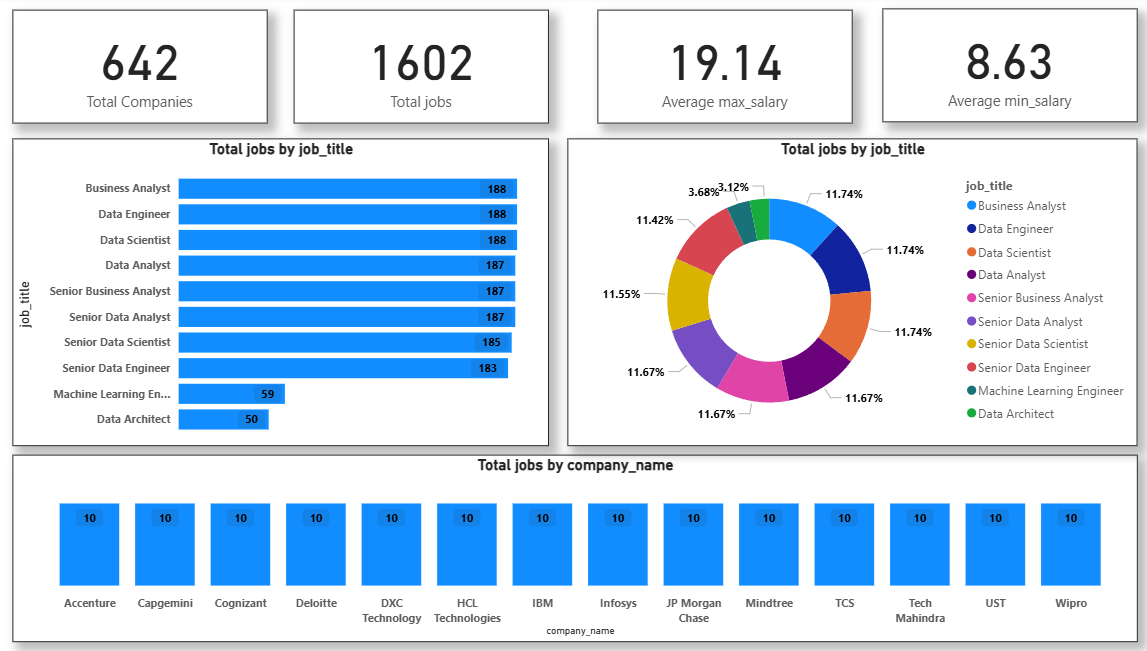

Layout of this report page (visuals, bound fields, positions):
{"tool":"powerbi","page":{"name":"Job Market Overview","canvas":[1280,720],"ordinal":0},"visuals":[{"type":"card","fields":{"Values":["Measure Table.Total Companies"]},"box":[30.2,15.1,279.9,124.9],"z":0},{"type":"card","fields":{"Values":["Measure Table.Total Companies"]},"box":[985.3,13.7,279.9,124.9],"z":1000},{"type":"card","fields":{"Values":["Measure Table.Total Companies"]},"box":[672.4,15.1,279.9,124.9],"z":2000},{"type":"card","fields":{"Values":["Measure Table.Total Companies"]},"box":[338.9,15.1,279.9,124.9],"z":3000},{"type":"clusteredBarChart","fields":{"Y":["Measure Table.Total jobs"],"Category":["Data.job_title"]},"box":[30.2,156.4,588.7,337.6],"z":4000},{"type":"clusteredColumnChart","fields":{"Y":["Measure Table.Total jobs"],"Category":["Data.company_name"]},"box":[30.2,503.6,1235,205.8],"z":5000},{"type":"donutChart","fields":{"Y":["Measure Table.Total jobs"],"Category":["Data.job_title"]},"box":[639.5,156.4,625.7,337.6],"z":6000}]}

Visuals, with their boxes in screenshot pixels (x1, y1, x2, y2), scaled from the page's 1280x720 canvas onto the 1147x651 screenshot:
card - Measure Table.Total Companies: (27, 14, 278, 127)
card - Measure Table.Total Companies: (883, 12, 1134, 125)
card - Measure Table.Total Companies: (603, 14, 853, 127)
card - Measure Table.Total Companies: (304, 14, 555, 127)
clusteredBarChart - Measure Table.Total jobs x Data.job_title: (27, 141, 555, 447)
clusteredColumnChart - Measure Table.Total jobs x Data.company_name: (27, 455, 1134, 641)
donutChart - Measure Table.Total jobs x Data.job_title: (573, 141, 1134, 447)
